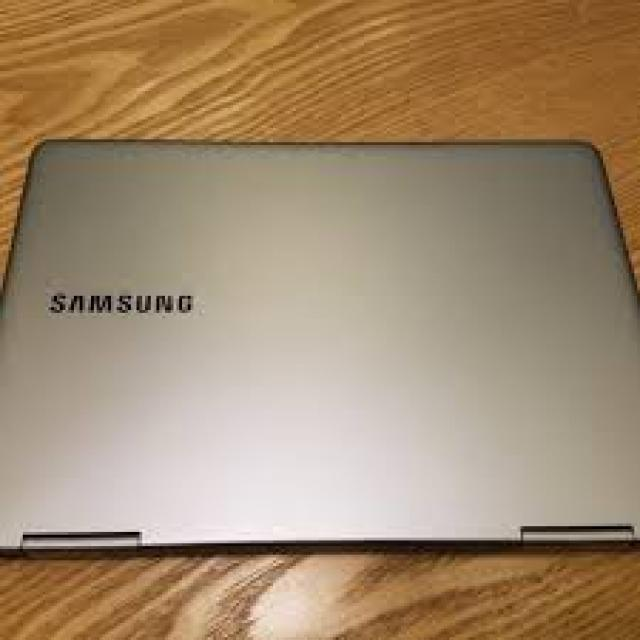laptop: (0, 133, 637, 558)
